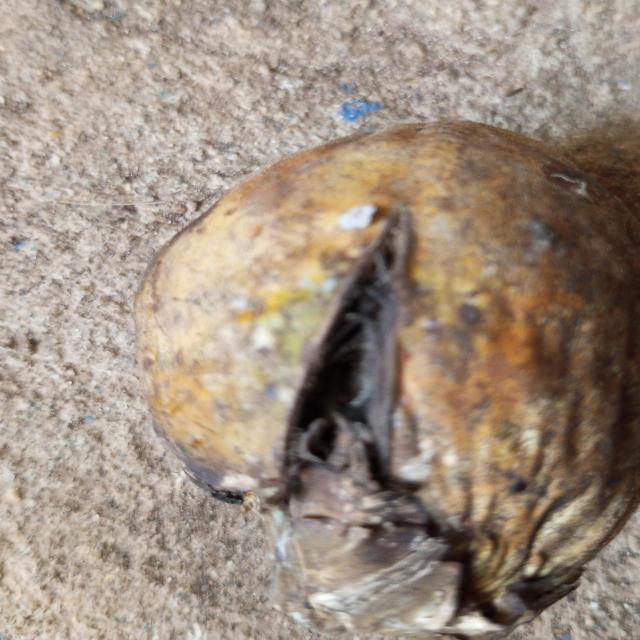damaged: (136, 122, 638, 640)
